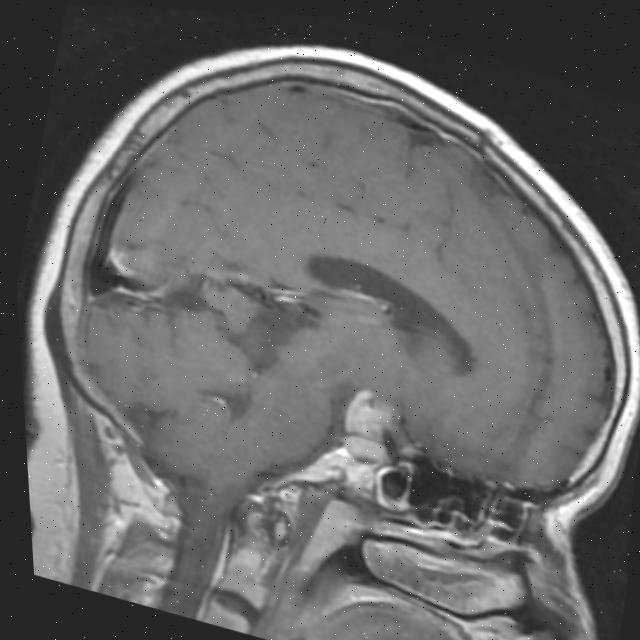Pituitary: (334, 384, 402, 468)
